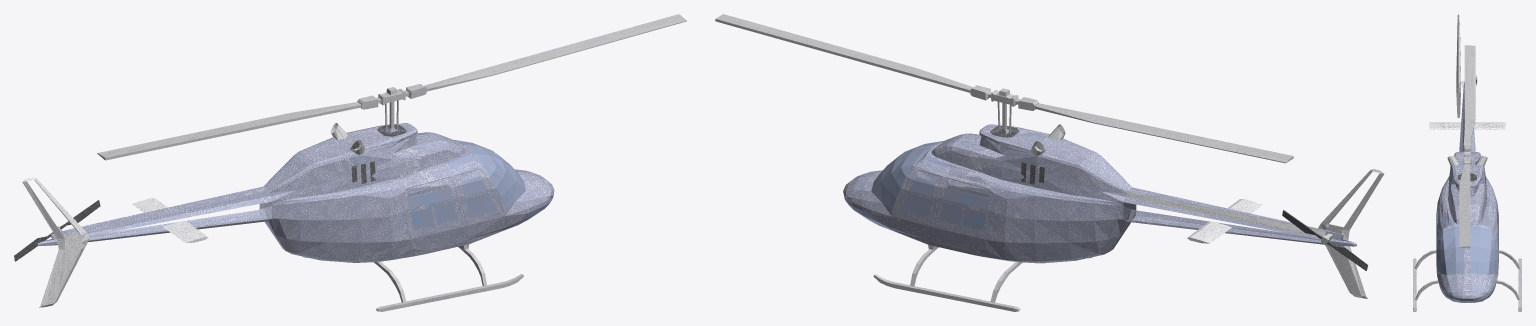
Rendered from Helicopter-01.dae.
3 renders of one model, left to right at view 1: azimuth 30°, elevation 25°; view 2: azimuth 150°, elevation 25°; view 3: azimuth 270°, elevation 25°, orthographic. The views are drawn at different scales.
Visible parts, largest first — view 1: air14.dwg; view 2: air14.dwg; view 3: air14.dwg.
Part boxes in pixels (left/top/right/bottom): air14.dwg: left=14, top=14, right=686, bottom=311; air14.dwg: left=715, top=14, right=1384, bottom=311; air14.dwg: left=1413, top=14, right=1521, bottom=311.
Bounding box in the file's own units: 5857 × 1161 × 1637.
